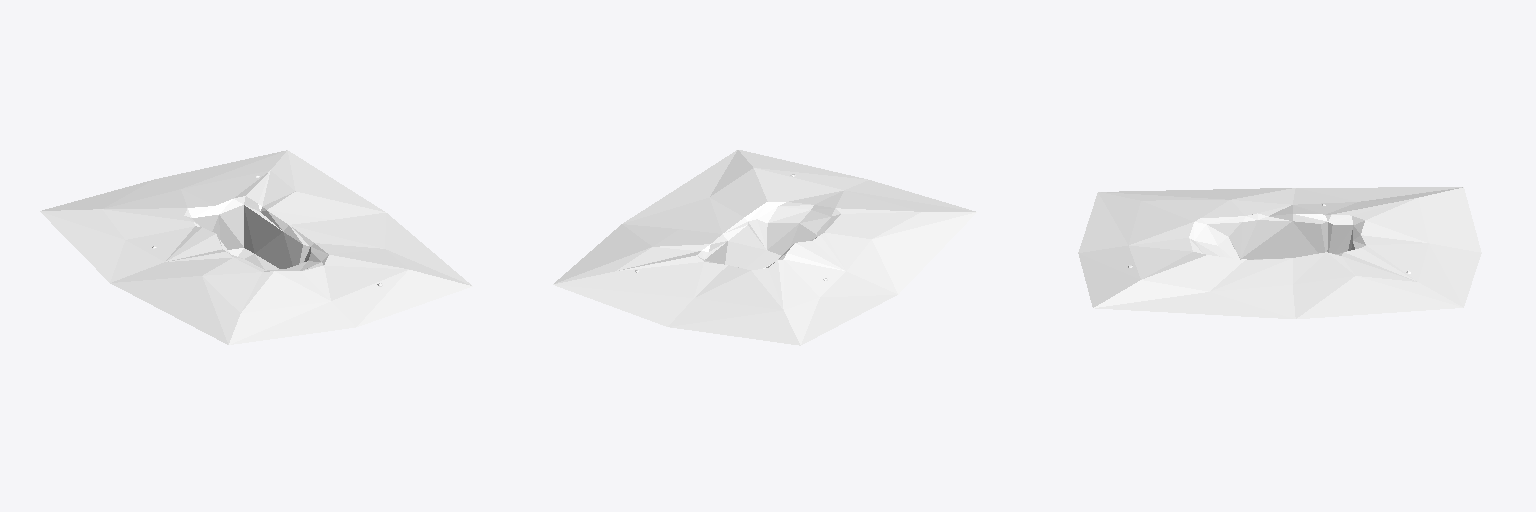
The model's file is grave.obj.
3 views of the same model, side by side, from view 1: azimuth 30°, elevation 25°; view 2: azimuth 150°, elevation 25°; view 3: azimuth 270°, elevation 25° (orthographic).
Visible parts, largest first — view 1: World_Lordaeron_tirisfalglade_passivedoodads_graves_tirisfallope; view 2: World_Lordaeron_tirisfalglade_passivedoodads_graves_tirisfallope; view 3: World_Lordaeron_tirisfalglade_passivedoodads_graves_tirisfallope.
Boxes of the visible parts, x1=… form: World_Lordaeron_tirisfalglade_passivedoodads_graves_tirisfallope: x1=40, y1=150, x2=472, y2=344; World_Lordaeron_tirisfalglade_passivedoodads_graves_tirisfallope: x1=553, y1=150, x2=976, y2=345; World_Lordaeron_tirisfalglade_passivedoodads_graves_tirisfallope: x1=1078, y1=187, x2=1481, y2=318.
Size of the model in its own units: 10.31 by 1.85 by 13.04.